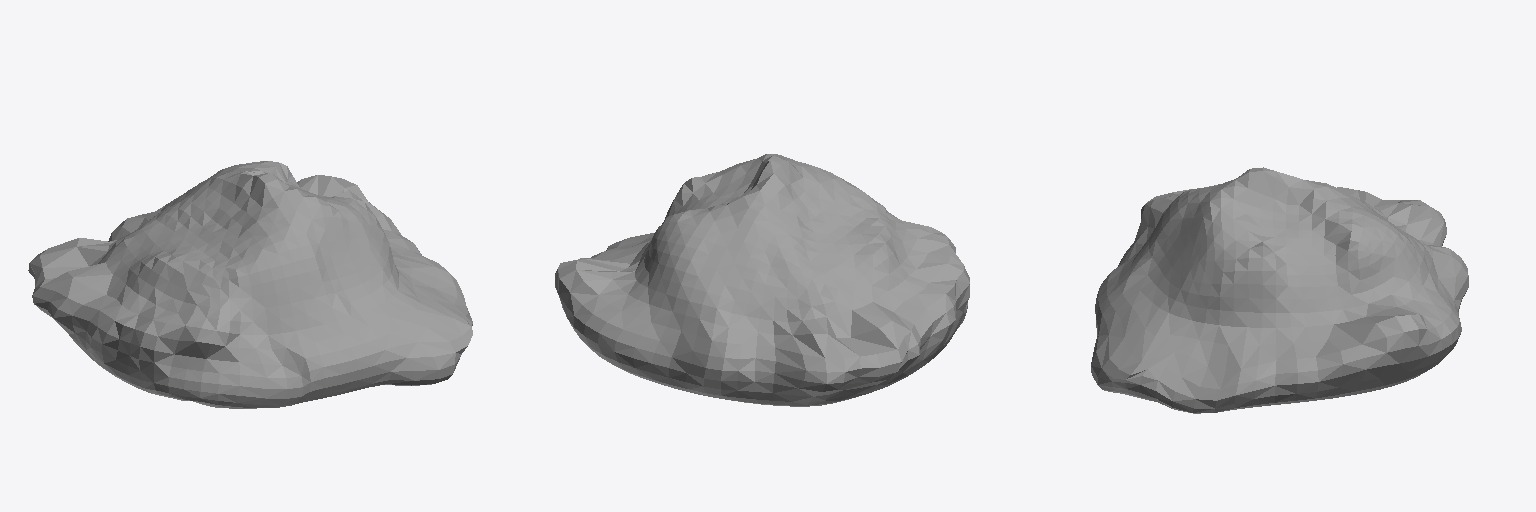
Rendered from island_test.obj.
3 renders of one model, left to right at view 1: azimuth 30°, elevation 25°; view 2: azimuth 150°, elevation 25°; view 3: azimuth 270°, elevation 25°, orthographic.
Visible parts, largest first — view 1: Cube; view 2: Cube; view 3: Cube.
Boxes of the visible parts, x1=… form: Cube: x1=28, y1=161, x2=472, y2=408; Cube: x1=555, y1=154, x2=969, y2=406; Cube: x1=1091, y1=167, x2=1468, y2=413.
Size of the model in its own units: 359 by 169 by 329.